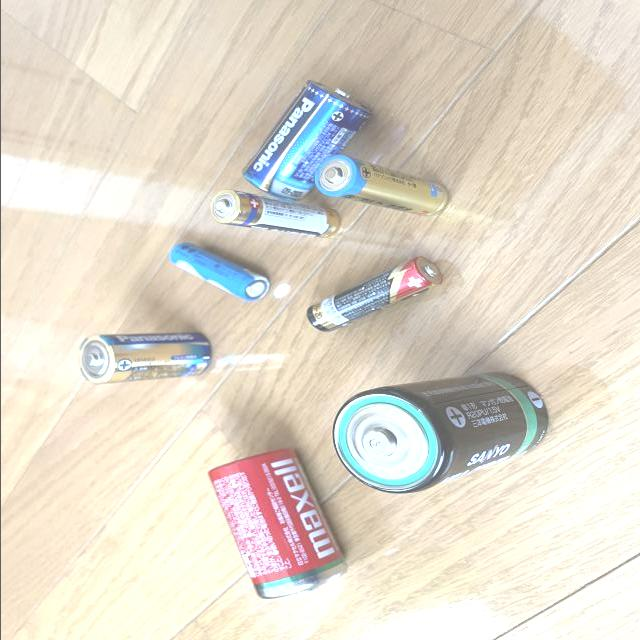AA: (74, 326, 218, 389), (314, 156, 452, 220)
AAA: (305, 256, 444, 334), (205, 186, 343, 239), (164, 240, 268, 303)
